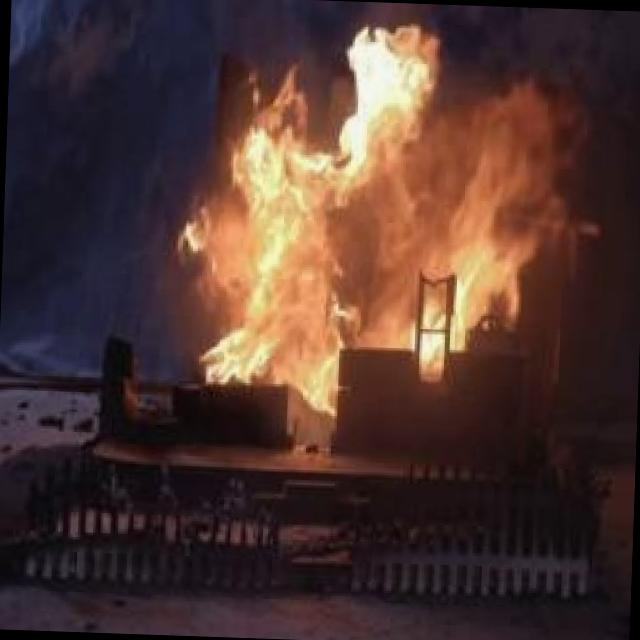fire: (153, 11, 586, 434)
